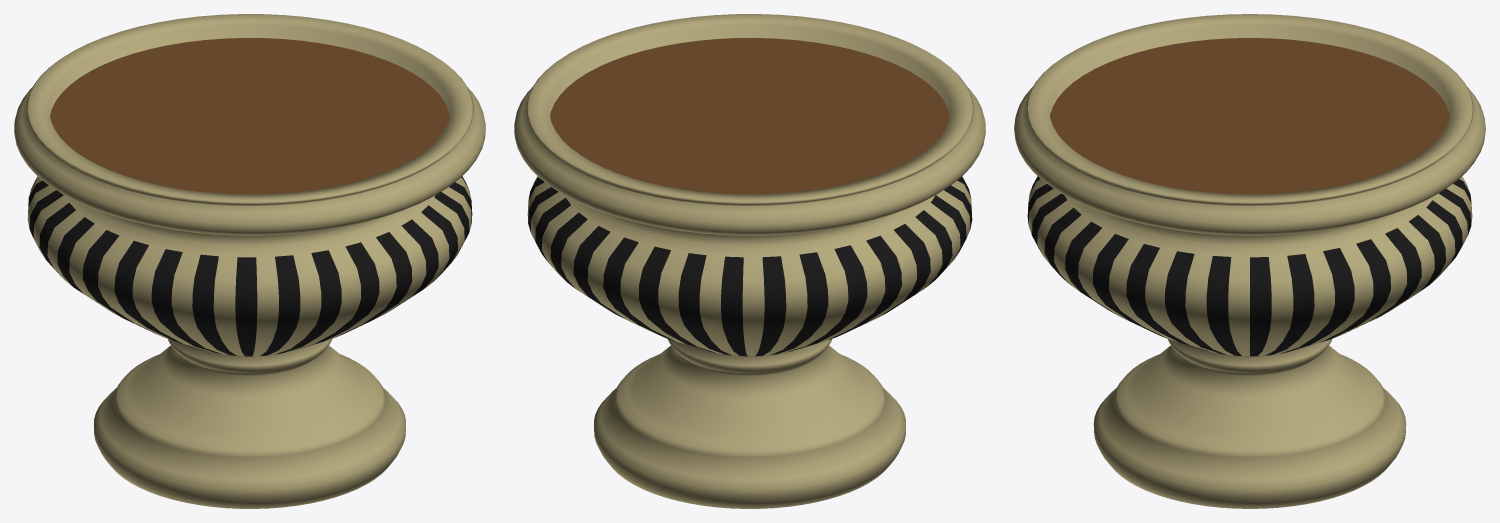
The model's file is Goldoon.fbx.
3 renders of one model, left to right at view 1: azimuth 30°, elevation 25°; view 2: azimuth 150°, elevation 25°; view 3: azimuth 270°, elevation 25°, orthographic.
Visible parts, largest first — view 1: Cylinder; view 2: Cylinder; view 3: Cylinder.
Part boxes in pixels (x1,y1,x2,y2): Cylinder: [14, 14, 485, 508]; Cylinder: [514, 14, 985, 508]; Cylinder: [1014, 14, 1485, 508].
Bounding box in the file's own units: 127 × 127 × 100.
